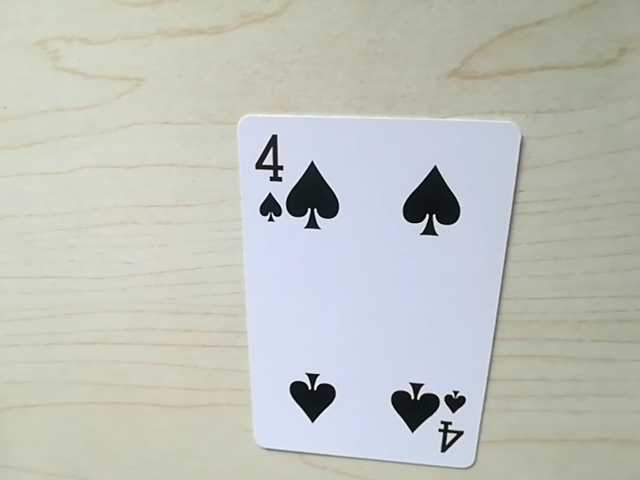ht 4: (250, 130, 296, 229), (425, 387, 468, 461)
